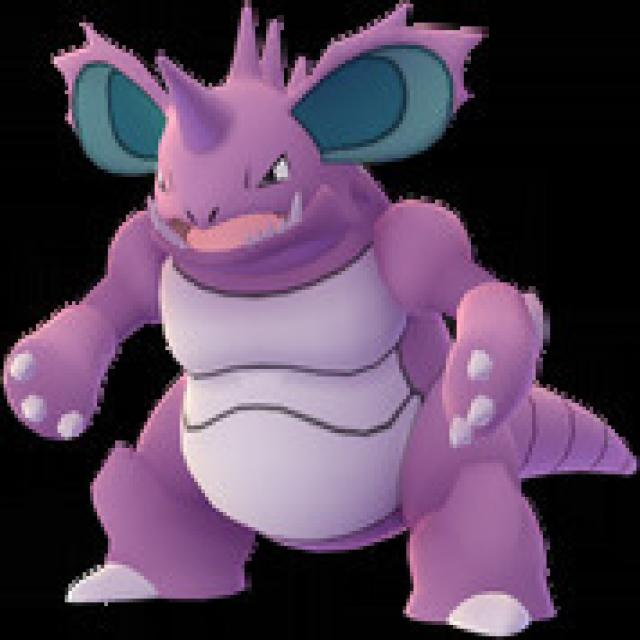Nidoking: (0, 12, 640, 632)
